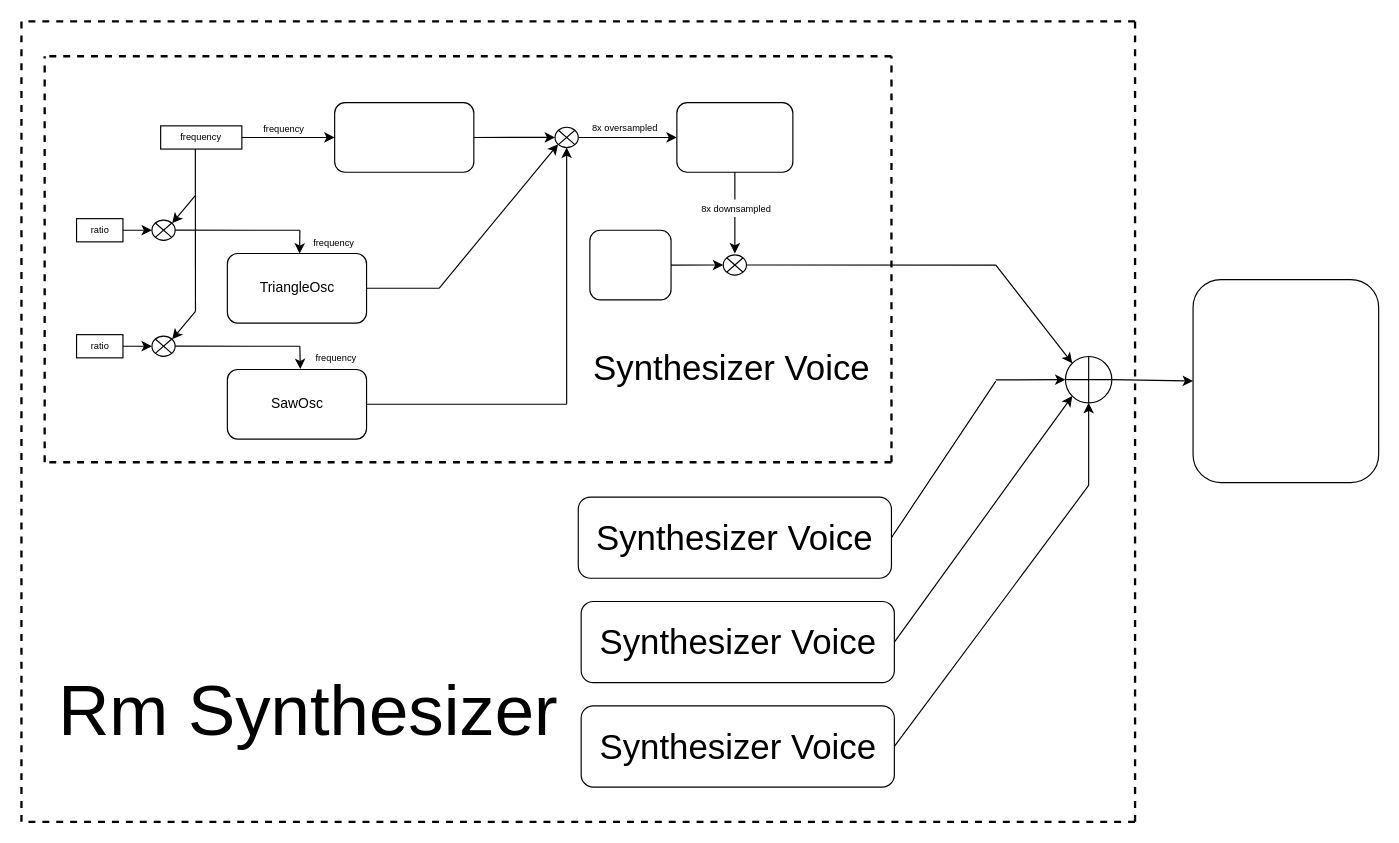
Image size: 1399x843. Some labels were removed from this diagram. The shapes that lost their labels are listed below. From the top down, each one's centre as x and y in pixels, then its label:
At point 404,137: "SineOsc".
At point 734,137: "LPF (20,000hz)".
At point 630,264: "ADSR".
At point 1285,380: "Audio Callback Buffer".
